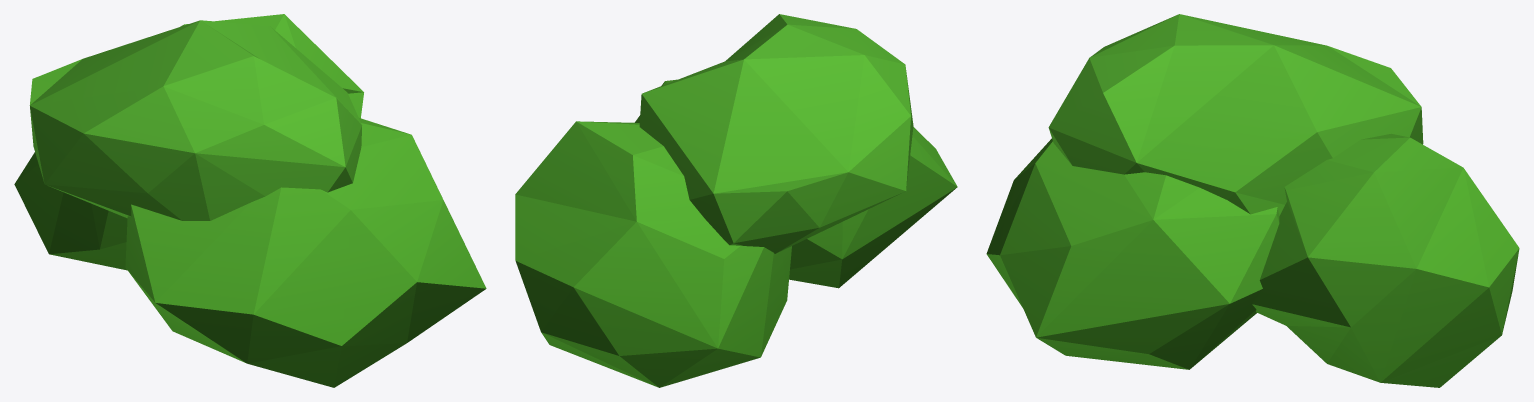
File: bush_3.fbx
3 views of the same model, side by side, from view 1: azimuth 30°, elevation 25°; view 2: azimuth 150°, elevation 25°; view 3: azimuth 270°, elevation 25° (orthographic). The views are drawn at different scales.
Visible parts, largest first — view 1: Bush_3; view 2: Bush_3; view 3: Bush_3.
Part boxes in pixels (left/top/right/bottom): Bush_3: left=14, top=14, right=486, bottom=387; Bush_3: left=515, top=14, right=957, bottom=387; Bush_3: left=986, top=14, right=1519, bottom=387.
Size of the model in its own units: 3.44 by 2.56 by 2.16.
